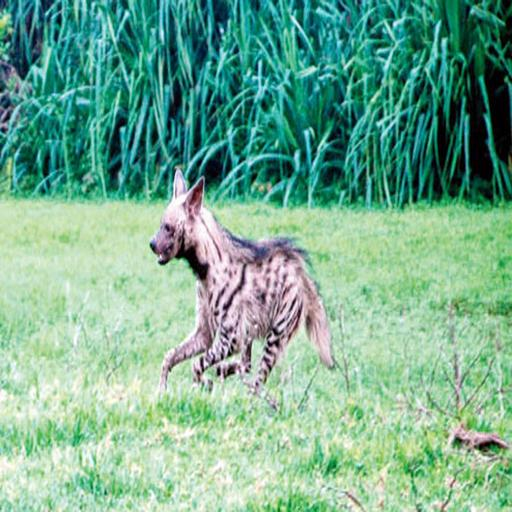Hyena: (144, 167, 339, 406)
